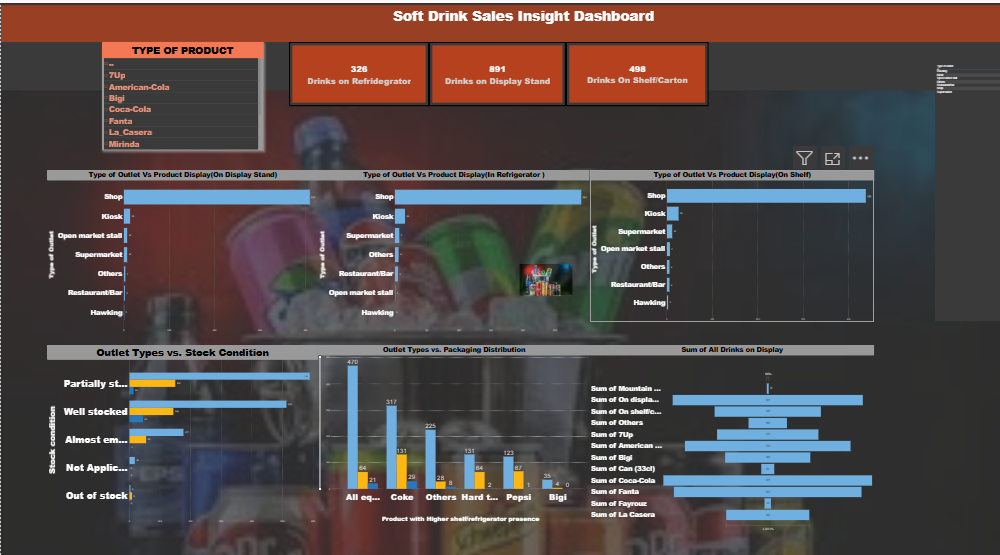

What the dashboard file says about the page in this screenshot:
{"tool":"powerbi","page":{"name":"Page 1","canvas":[5500,4500],"ordinal":0},"visuals":[{"type":"textbox","box":[0,0,5500,317.6],"z":0},{"type":"clusteredBarChart","title":"Outlet Types vs. Stock Condition\n\n","fields":{"Category":["Product Visibility Challenge Da.Stock condition"],"Y":["Product Visibility Challenge Da.PET bottle (50cl/1L)","Product Visibility Challenge Da.Glass bottle (35cl/60cl)","Product Visibility Challenge Da.Can (33cl)"]},"box":[270.6,1911.8,1400,1182.4],"z":2000},{"type":"clusteredBarChart","title":"Type of Outlet Vs Product Display(In Refrigerator )","fields":{"Y":["Product Visibility Challenge Da.In refridgerator/cooler"],"Category":["Product Visibility Challenge Da.Type of Outlet"]},"box":[1670.8,987.5,1429.2,858.3],"z":3000},{"type":"clusteredColumnChart","title":"Outlet Types vs. Packaging Distribution\n\n","fields":{"Category":["Product Visibility Challenge Da.Product with Higher shelf/refrigerator presence"],"Y":["Product Visibility Challenge Da.PET bottle (50cl/1L)","Product Visibility Challenge Da.Glass bottle (35cl/60cl)","Product Visibility Challenge Da.Can (33cl)"]},"box":[1669.2,1911.5,1430.8,1230.8],"z":4000},{"type":"listSlicer","title":"TYPE OF PRODUCT","fields":{"Values":["COUNT.Type of Product (Combined Response).1"]},"box":[533.3,316.7,850,570.8],"z":5000},{"type":"cardVisual","fields":{"Data":["Product Visibility Challenge Da.On display stand"]},"box":[2254.2,316.7,720.8,337.5],"z":6000},{"type":"cardVisual","fields":{"Data":["Product Visibility Challenge Da.On shelf/carton"]},"box":[2975,316.7,750,337.5],"z":7000},{"type":"cardVisual","fields":{"Data":["Product Visibility Challenge Da.In refridgerator/cooler"]},"box":[1516.7,316.7,737.5,337.5],"z":8000},{"type":"funnel","title":"Sum of All Drinks on Display","fields":{"Y":["Product Visibility Challenge Da.Mountain Dew","Product Visibility Challenge Da.On display stand","Product Visibility Challenge Da.On shelf/carton","Product Visibility Challenge Da.Other Drinks","Product Visibility Challenge Da.7Up","Product Visibility Challenge Da.American Cola","Product Visibility Challenge Da.Bigi","Product Visibility Challenge Da.Can (33cl)","Product Visibility Challenge Da.Coca-Cola","Product Visibility Challenge Da.Fanta","Product Visibility Challenge Da.Fayrouz","Product Visibility Challenge Da.La Casera"]},"box":[3100,1911.5,1496.2,1184.6],"z":9000},{"type":"clusteredBarChart","title":"Type of Outlet Vs Product Display(On Shelf)","fields":{"Category":["Product Visibility Challenge Da.Type of Outlet"],"Y":["Product Visibility Challenge Da.On shelf/carton"]},"box":[3100,987.5,1495.8,800],"z":9001},{"type":"tableEx","fields":{"Values":["Product Visibility Challenge Da.Type of Outlet"]},"box":[4917,433,583,1354],"z":9002},{"type":"clusteredBarChart","title":"Type of Outlet Vs Product Display(On Display Stand)","fields":{"Category":["Product Visibility Challenge Da.Type of Outlet"],"Y":["Product Visibility Challenge Da.On display stand"]},"box":[241.7,987.5,1429.2,858.3],"z":9003}]}

Visuals, with their boxes in screenshot pixels (x1, y1, x2, y2):
textbox: Rect(227, 0, 871, 1)
"Outlet Types vs. Stock Condition

" clusteredBarChart: Rect(258, 188, 422, 326)
"Type of Outlet Vs Product Display(In Refrigerator )" clusteredBarChart: Rect(422, 79, 590, 180)
"Outlet Types vs. Packaging Distribution

" clusteredColumnChart: Rect(422, 188, 590, 332)
"TYPE OF PRODUCT" listSlicer: Rect(289, 1, 389, 68)
cardVisual - Product Visibility Challenge Da.On display stand: Rect(491, 1, 575, 40)
cardVisual - Product Visibility Challenge Da.On shelf/carton: Rect(575, 1, 663, 40)
cardVisual - Product Visibility Challenge Da.In refridgerator/cooler: Rect(404, 1, 491, 40)
"Sum of All Drinks on Display" funnel: Rect(590, 188, 765, 327)
"Type of Outlet Vs Product Display(On Shelf)" clusteredBarChart: Rect(590, 79, 765, 173)
tableEx - Product Visibility Challenge Da.Type of Outlet: Rect(803, 14, 871, 173)
"Type of Outlet Vs Product Display(On Display Stand)" clusteredBarChart: Rect(255, 79, 422, 180)
